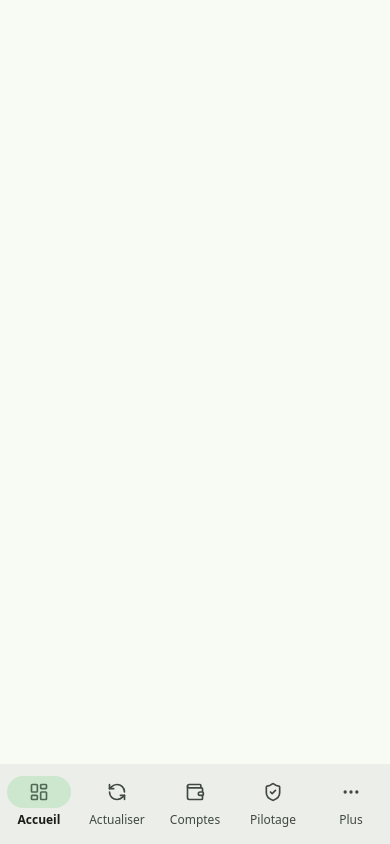
BottomNav › « Demander à Pécule » en tête du panneau : ferme le panneau et ouvre l’assistant
The width and height of the screenshot is (390, 844).
Click the button "Plus". click: (351, 804)
box: [312,764,389,843]
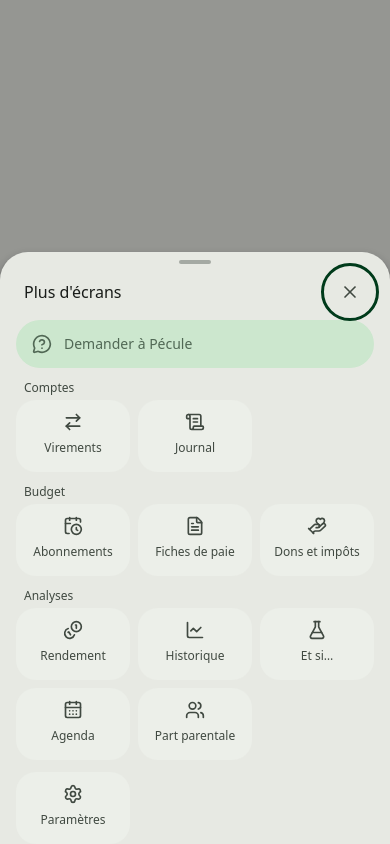
Click the button "Demander à Pécule". click: (195, 344)
box: [16,320,374,368]
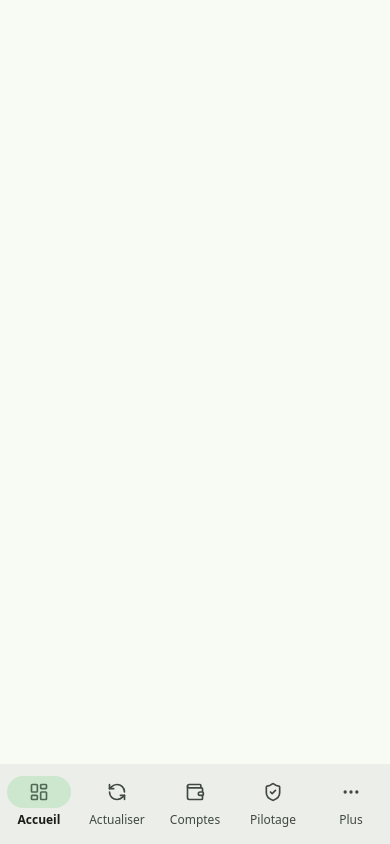
Check: the heading "Plus d'écrans" is gone
